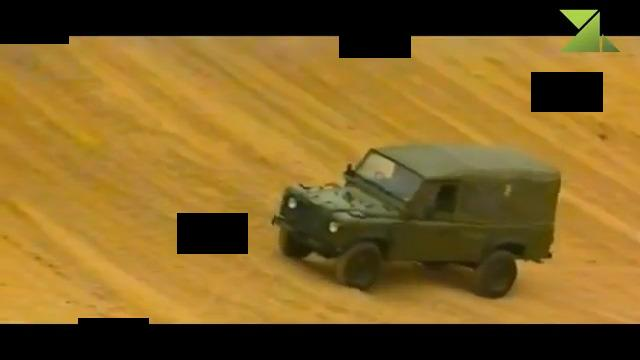MIL_HMMWV: (274, 141, 561, 300)
